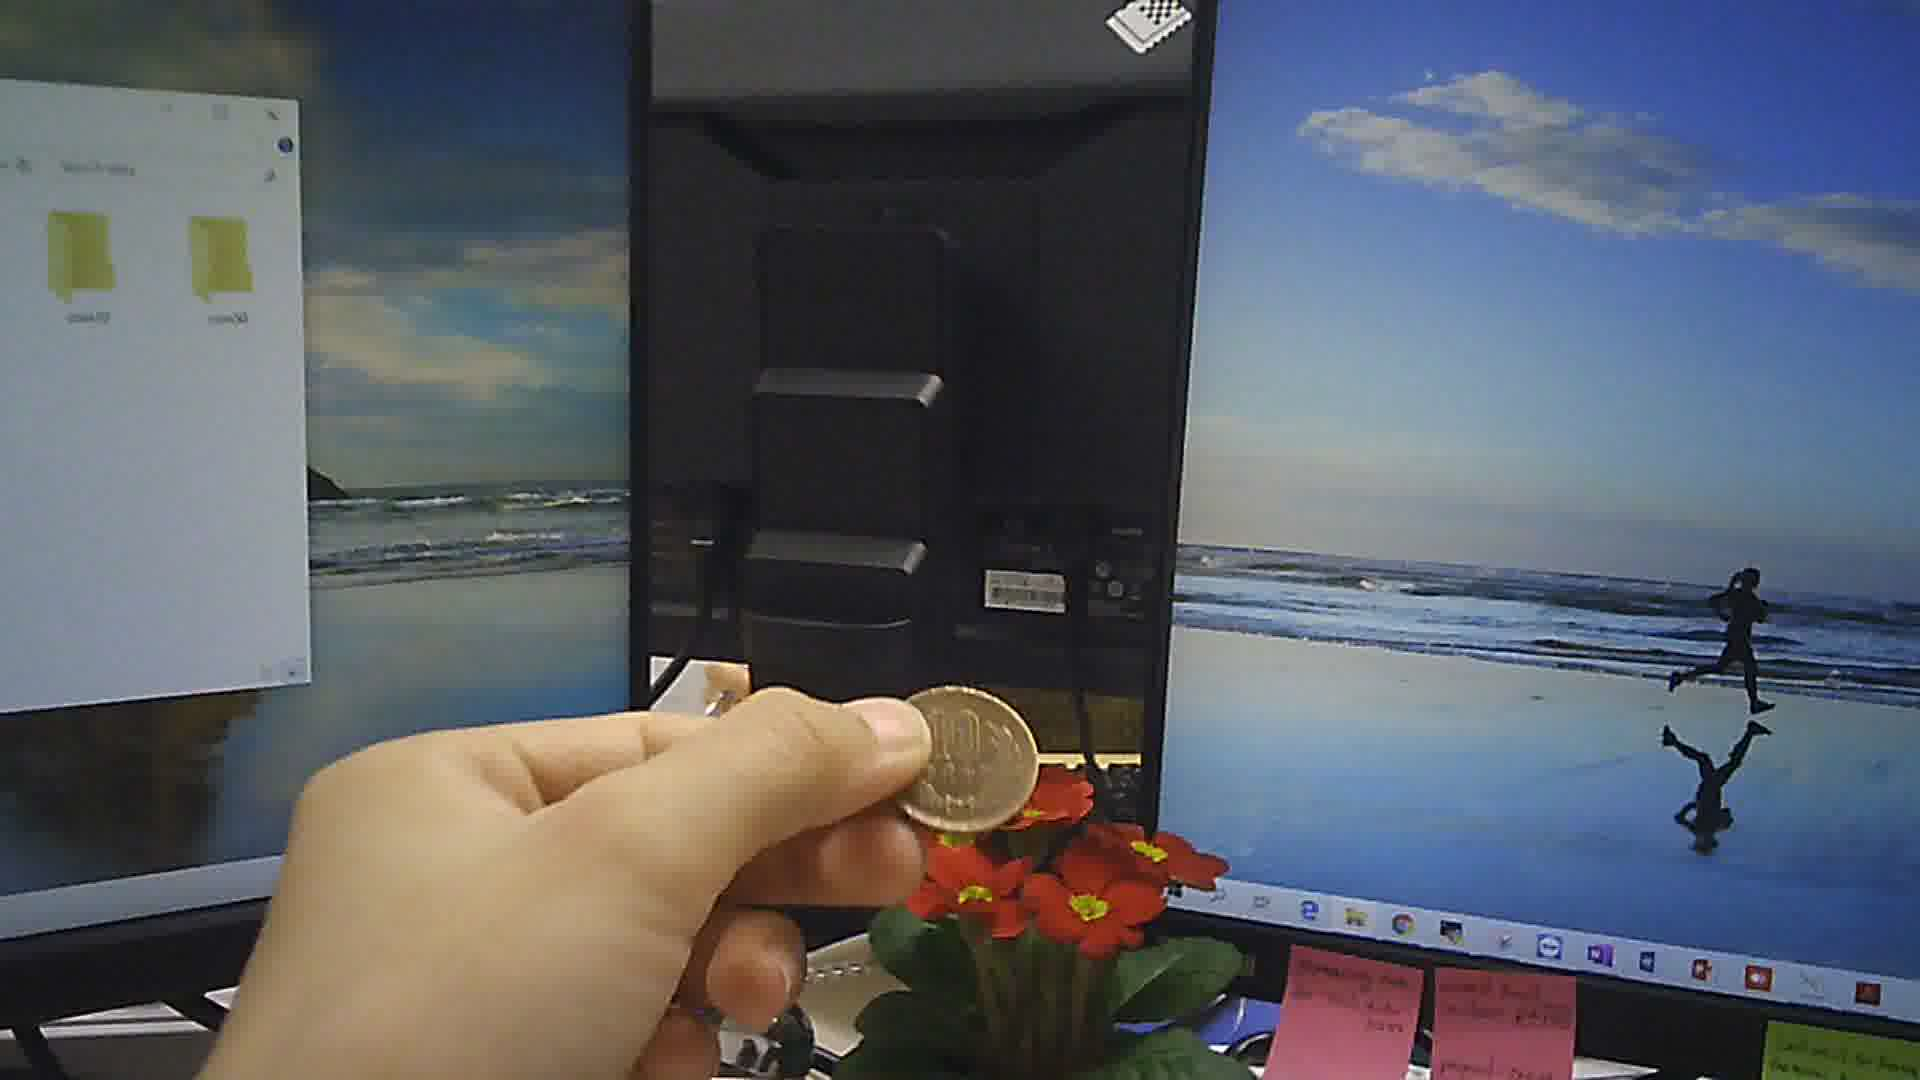10 Yen: (876, 671, 1046, 837)
